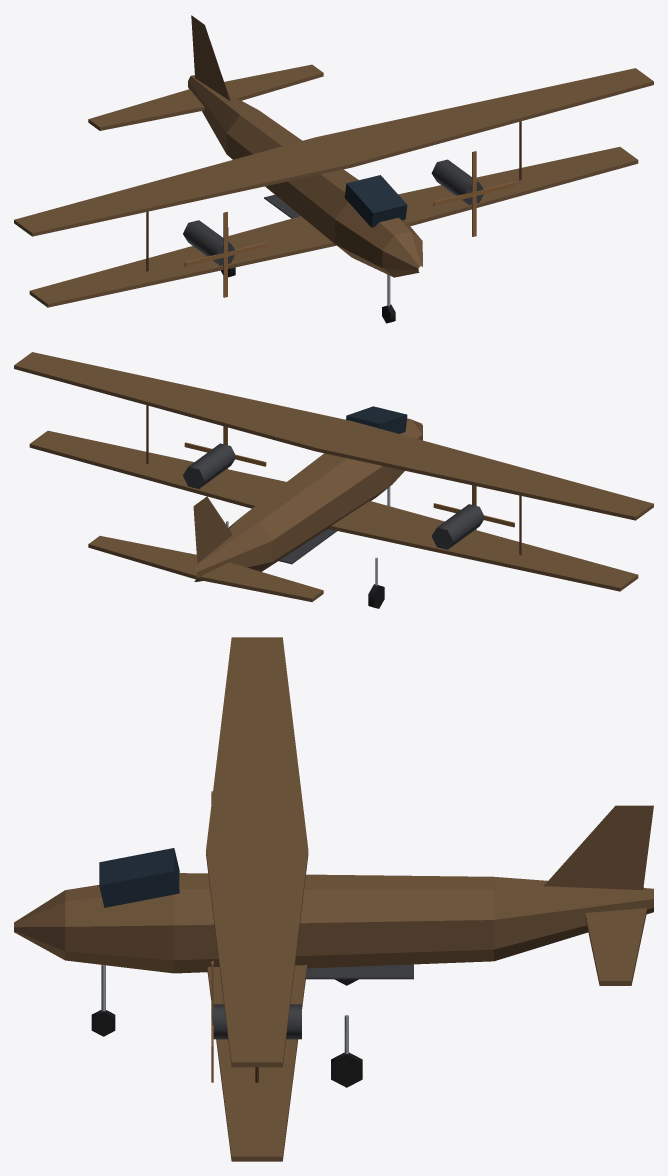
Rendered from veh_air_bomber_a05.glb.
3 renders of one model, top to bottom at view 1: azimuth 30°, elevation 25°; view 2: azimuth 150°, elevation 25°; view 3: azimuth 270°, elevation 25°, orthographic. The views are drawn at different scales.
Visible parts, largest first — view 1: body, propeller_0, propeller_1; view 2: body, propeller_0, gear_1, propeller_1; view 3: body, gear_2, gear_0.
Part boxes in pixels (<box>): body: <box>14,15,653,307</box>; propeller_0: <box>184,212,266,297</box>; propeller_1: <box>433,151,514,236</box>; body: <box>14,352,653,601</box>; propeller_0: <box>433,485,514,529</box>; gear_1: <box>368,557,384,608</box>; propeller_1: <box>184,426,266,469</box>; body: <box>14,637,653,1161</box>; gear_2: <box>331,1015,362,1087</box>; gear_0: <box>91,965,115,1036</box>.
Size of what is drawn, in the model's own units: 22 by 5.56 by 14.
